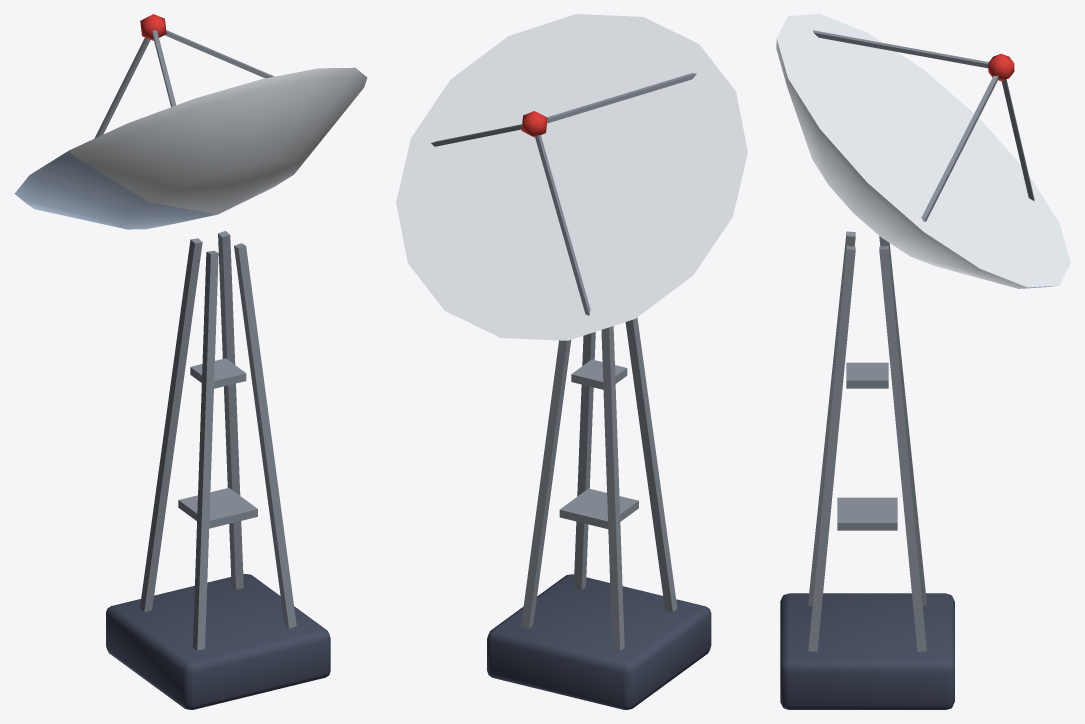
The model's file is RadioDish.fbx.
The picture shows the model from 3 angles, left to right: view 1: azimuth 30°, elevation 25°; view 2: azimuth 150°, elevation 25°; view 3: azimuth 270°, elevation 25°; orthographic projection. The views are drawn at different scales.
Parts seen in each view (by area): view 1: RadioDish; view 2: RadioDish; view 3: RadioDish.
Part boxes in pixels (x1,y1,x2,y2): RadioDish: (14,14,367,709); RadioDish: (396,14,747,709); RadioDish: (776,14,1070,709).
Bounding box in the file's own units: 1.76 × 3.22 × 1.35.
1 material, 1 textured.
